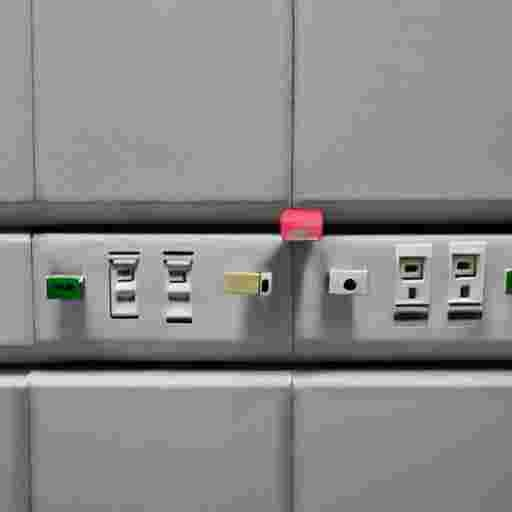power outlet: (293, 235, 511, 359)
